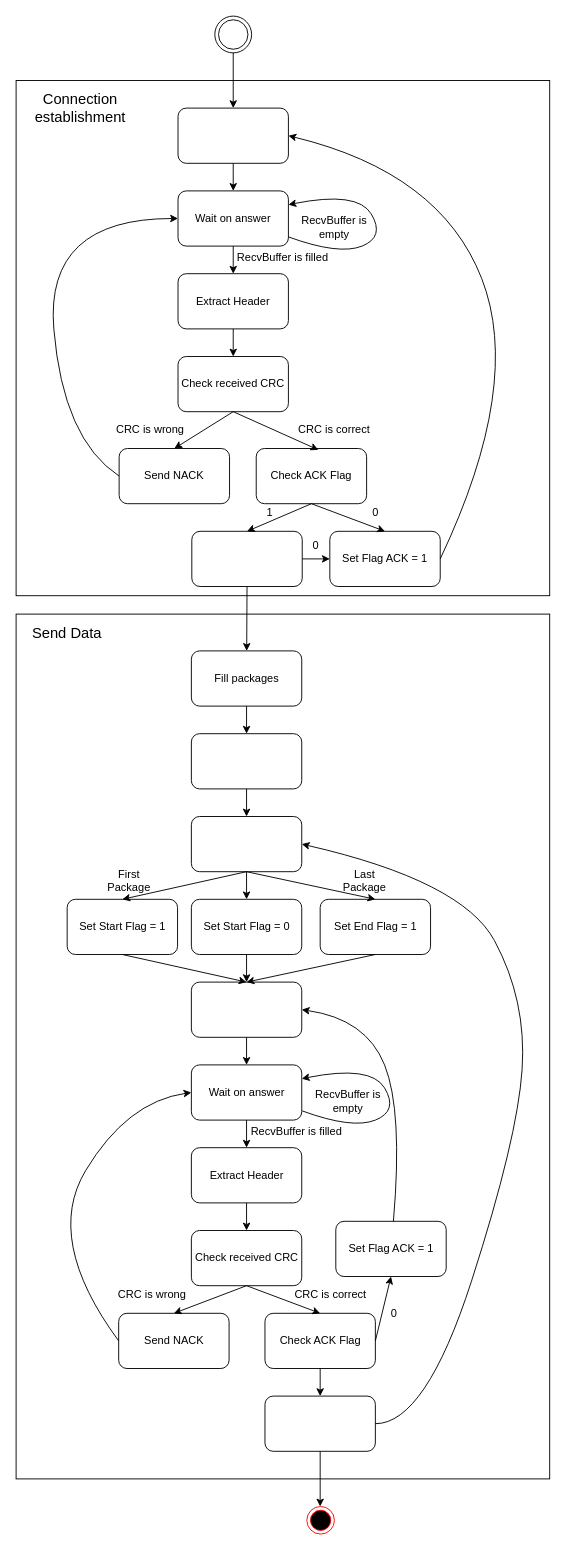
The diagram is 566 pixels wide and 1550 high, and some of its shapes have lost their labels. Here are the shapes that lost their labels. From the top down, the centre of each, then its label:
At pixel 232 135: "Send request to send".
At pixel 246 558: "Check Ready To receive Flag".
At pixel 246 761: "Set packageCounter = 0".
At pixel 246 844: "Check PackageCounter".
At pixel 246 1009: "Send Package".
At pixel 319 1423: "Package counter +1".
